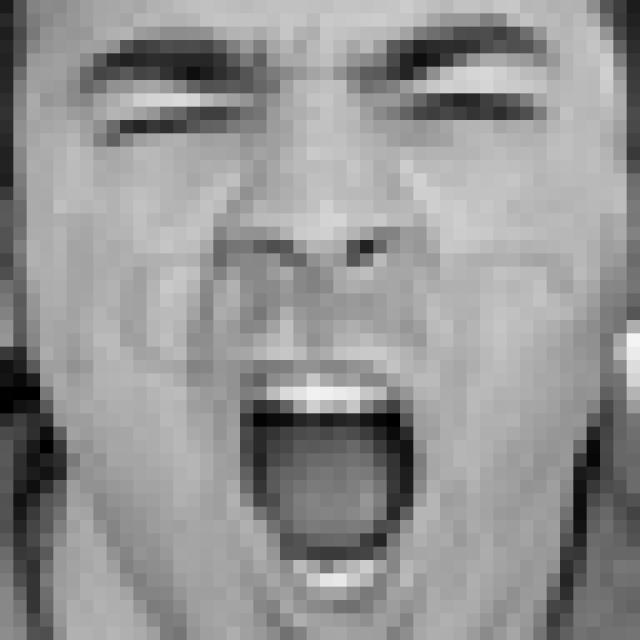angry: (81, 22, 562, 617)
